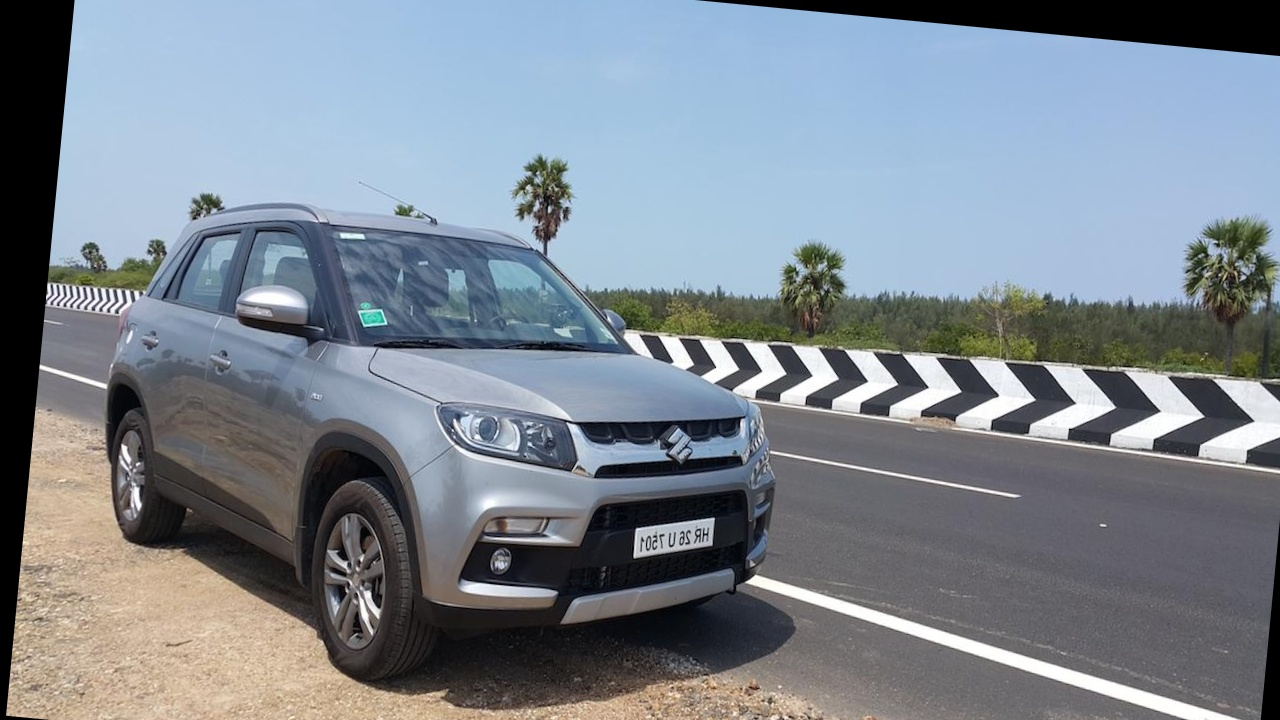car: (50, 125, 847, 720)
